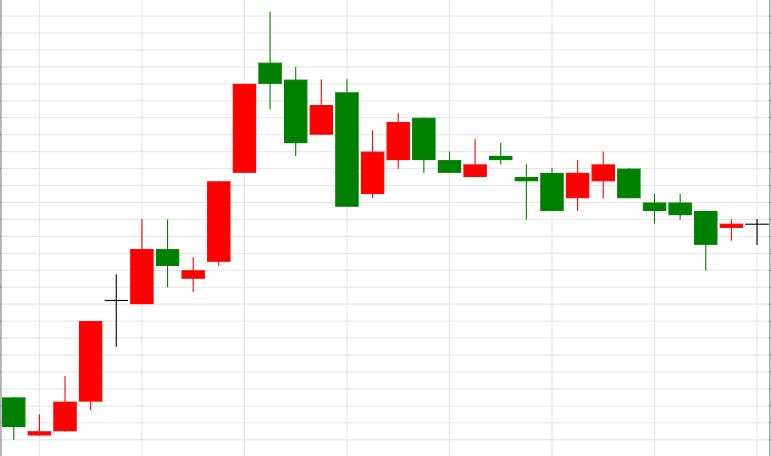evening_star_fall: (28, 12, 306, 437)
